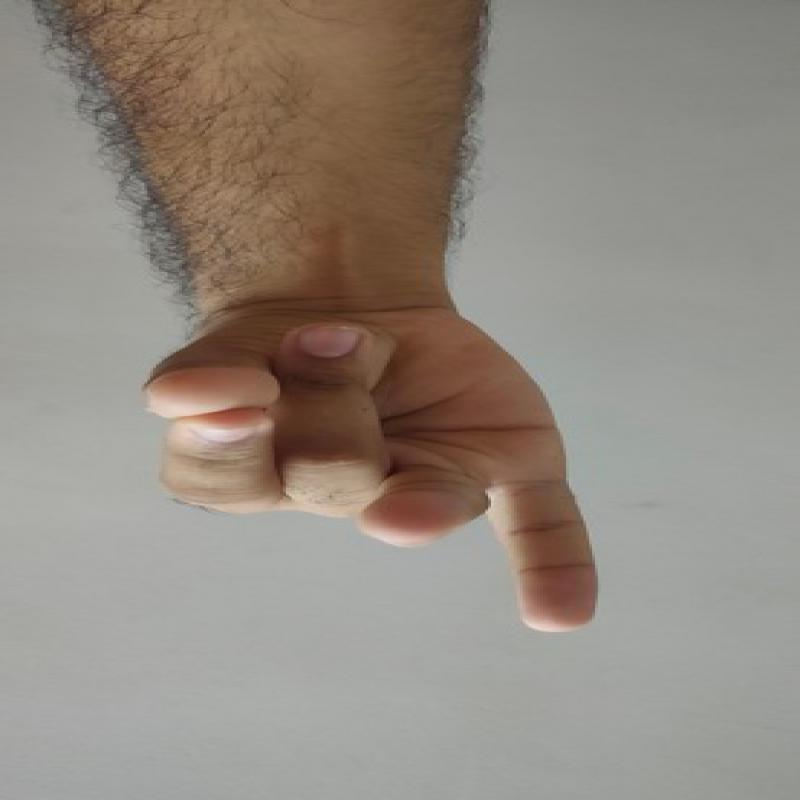Katakam: (114, 267, 616, 660)
